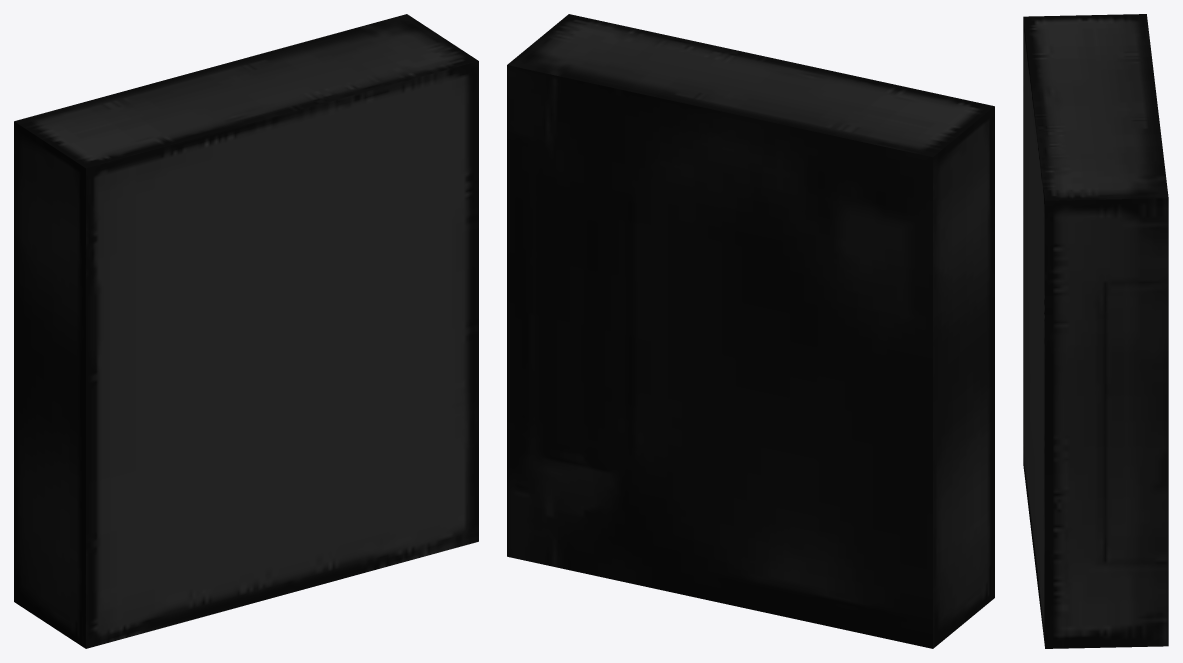
File: seat__seat_pad.glb
3 views of the same model, side by side, from view 1: azimuth 30°, elevation 25°; view 2: azimuth 150°, elevation 25°; view 3: azimuth 270°, elevation 25° (orthographic). The views are drawn at different scales.
Visible parts, largest first — view 1: world; view 2: world; view 3: world.
Part boxes in pixels (x1,y1,x2,y2): world: (14,14,478,648); world: (507,14,994,648); world: (1023,14,1168,648).
Size of the model in its own units: 0.3039 by 0.34 by 0.0999.
Materials: 1 (1 with a texture image).
